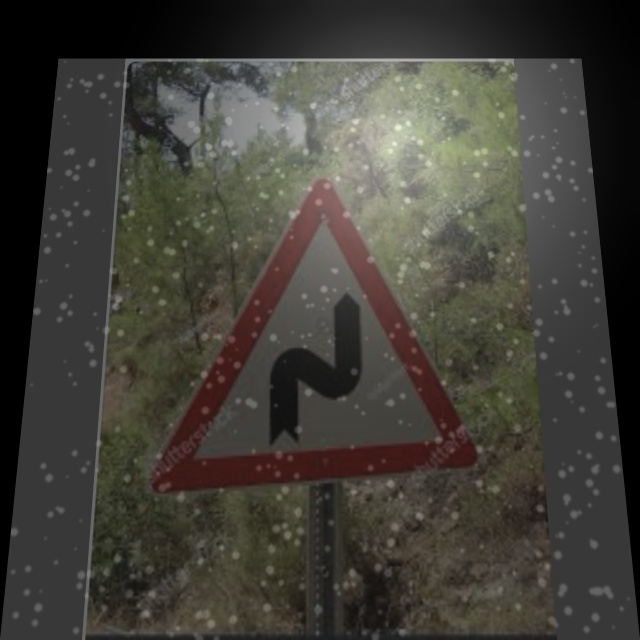Right_Reverse_Bend: (148, 176, 479, 473)
